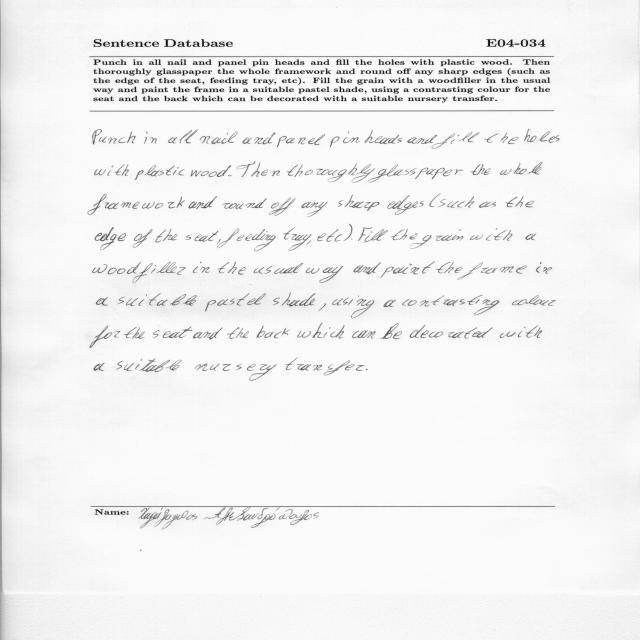word: (88, 194, 185, 215), (402, 295, 500, 315), (93, 262, 186, 283), (287, 163, 375, 183), (369, 165, 463, 183), (195, 364, 277, 381), (285, 358, 364, 375), (457, 262, 527, 280), (205, 294, 266, 312), (410, 325, 493, 338), (117, 293, 197, 306), (333, 296, 375, 319), (116, 359, 182, 373), (501, 129, 560, 144), (236, 229, 276, 251), (381, 262, 435, 278), (432, 132, 480, 149), (298, 323, 345, 339), (135, 165, 185, 180), (388, 195, 425, 215), (337, 194, 379, 211), (95, 227, 126, 250), (93, 129, 136, 145), (283, 227, 311, 251), (90, 326, 120, 348), (237, 162, 280, 177), (317, 224, 352, 242), (306, 266, 343, 283), (277, 134, 325, 147), (273, 293, 316, 306), (351, 227, 388, 242), (254, 263, 304, 274), (500, 162, 542, 175), (470, 228, 512, 241), (500, 325, 542, 338), (365, 130, 403, 144), (269, 197, 296, 216), (223, 198, 267, 209), (512, 295, 556, 306), (191, 165, 231, 177), (200, 132, 238, 144), (330, 132, 360, 147), (256, 326, 290, 339), (153, 327, 193, 338), (168, 130, 198, 144), (217, 229, 239, 248), (95, 164, 129, 176), (301, 202, 328, 217), (133, 229, 153, 248), (242, 133, 276, 144), (185, 231, 219, 242), (189, 196, 217, 209), (218, 262, 246, 275), (410, 233, 432, 249), (380, 323, 402, 339), (193, 328, 222, 340), (447, 196, 475, 208), (353, 262, 381, 274), (436, 229, 463, 241), (505, 197, 534, 208), (436, 262, 463, 273), (156, 229, 178, 242), (407, 135, 437, 144), (227, 327, 249, 339), (124, 327, 145, 339), (470, 164, 491, 175), (429, 194, 446, 207), (352, 330, 376, 339), (193, 261, 210, 273), (536, 262, 552, 274), (144, 132, 157, 144), (391, 229, 405, 240), (484, 134, 499, 143), (479, 202, 496, 208), (399, 229, 408, 240), (96, 297, 108, 305), (383, 300, 396, 307), (94, 363, 105, 371), (526, 234, 537, 240), (319, 304, 326, 312), (306, 240, 311, 245), (228, 175, 232, 176), (366, 369, 368, 370)
